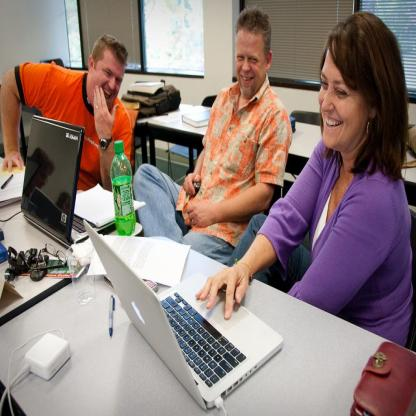board: (86, 220, 282, 410), (20, 116, 116, 250), (110, 139, 135, 237)
